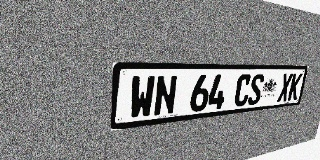4: (207, 74, 228, 110)
6: (189, 75, 211, 112)
C: (233, 74, 252, 107)
K: (287, 73, 303, 101)
N: (153, 75, 178, 117)
S: (247, 74, 265, 106)
W: (129, 75, 156, 120)
X: (277, 74, 293, 102)
